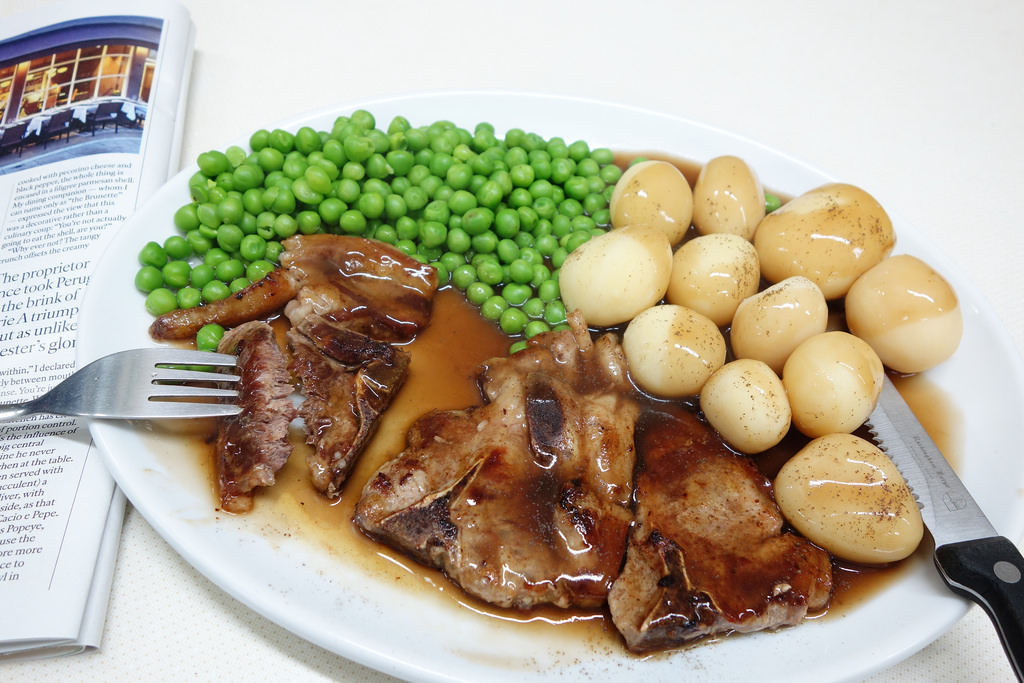boiled potatoes: (658, 184, 883, 438), (345, 138, 519, 218), (796, 446, 917, 551)
